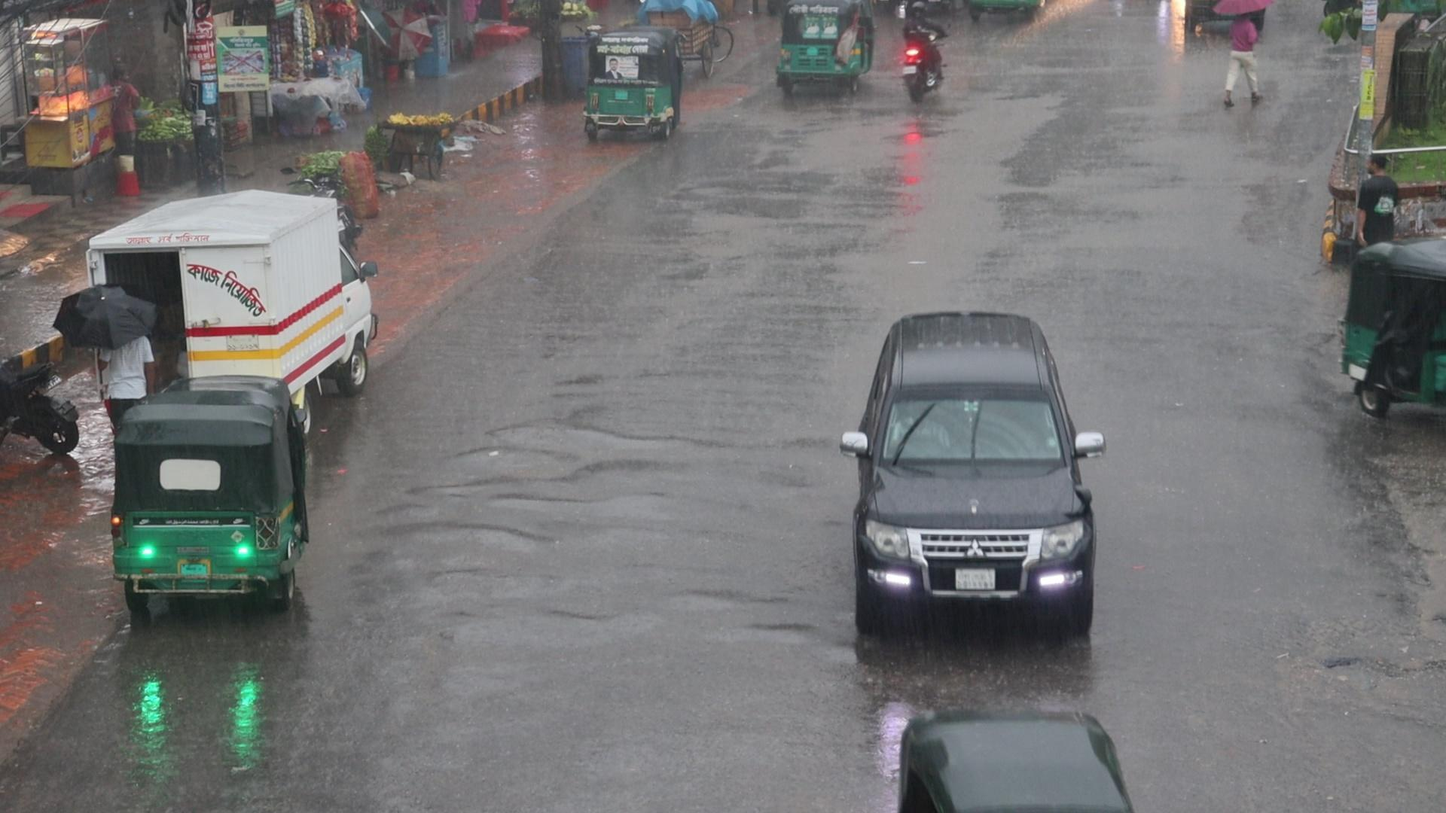Bike: (900, 2, 945, 100)
Car: (838, 309, 1106, 639)
